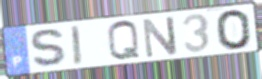3: (181, 12, 213, 55)
I: (69, 24, 85, 68)
N: (141, 14, 179, 60)
O: (214, 8, 254, 51)
Q: (105, 19, 143, 63)
S: (29, 28, 71, 69)
